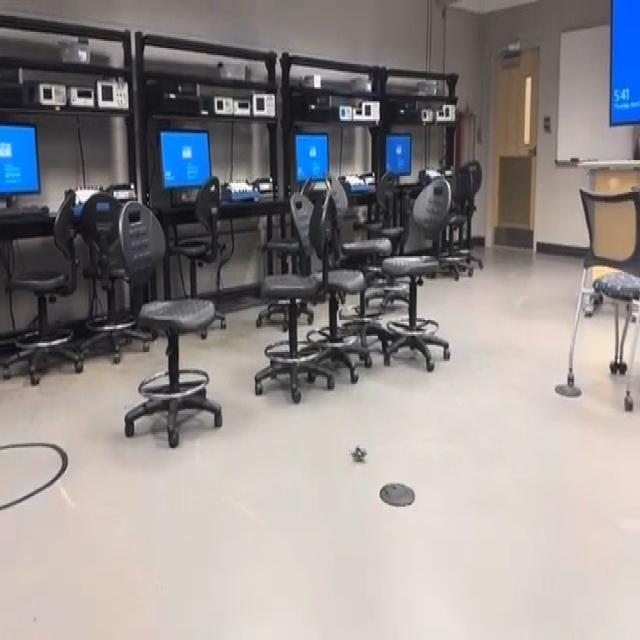drone: (339, 423, 375, 474)
